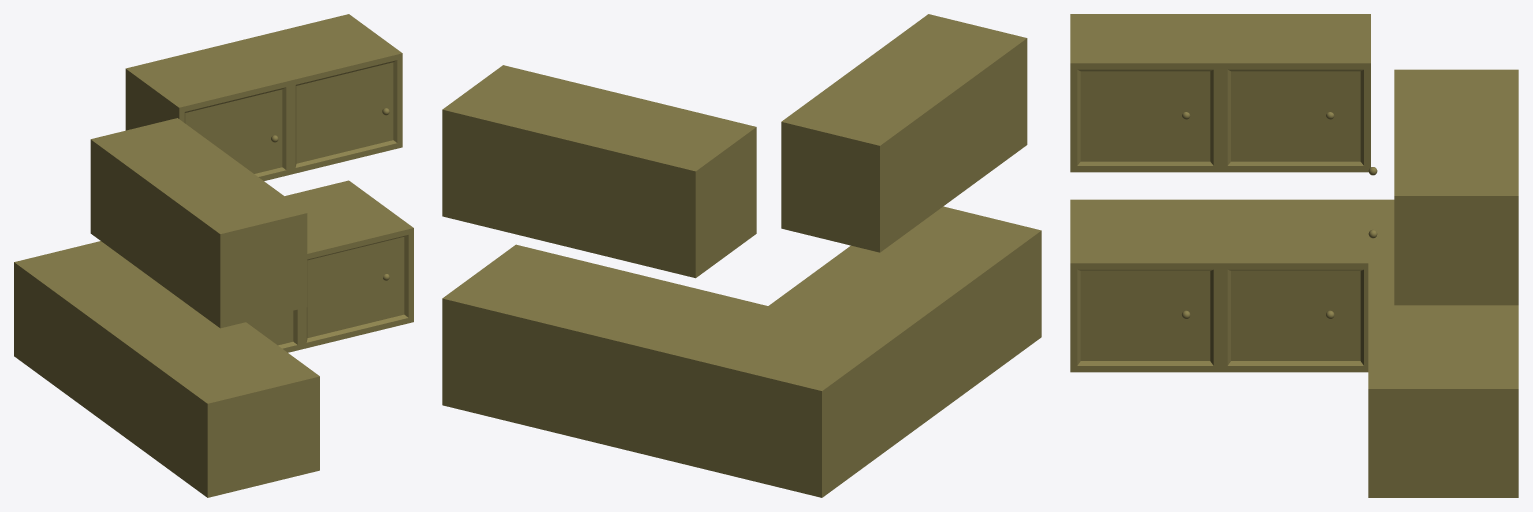
File: Kitchen.fbx
3 renders of one model, left to right at view 1: azimuth 30°, elevation 25°; view 2: azimuth 150°, elevation 25°; view 3: azimuth 270°, elevation 25°, orthographic. The views are drawn at different scales.
Parts seen in each view (by area): view 1: Kitchen; view 2: Kitchen; view 3: Kitchen.
Part boxes in pixels (box(x1,y1,x2,y2)): Kitchen: box(14, 14, 413, 497); Kitchen: box(442, 14, 1041, 497); Kitchen: box(1070, 14, 1518, 497).
Bounding box in the file's own units: 104 × 77.5 × 104.
